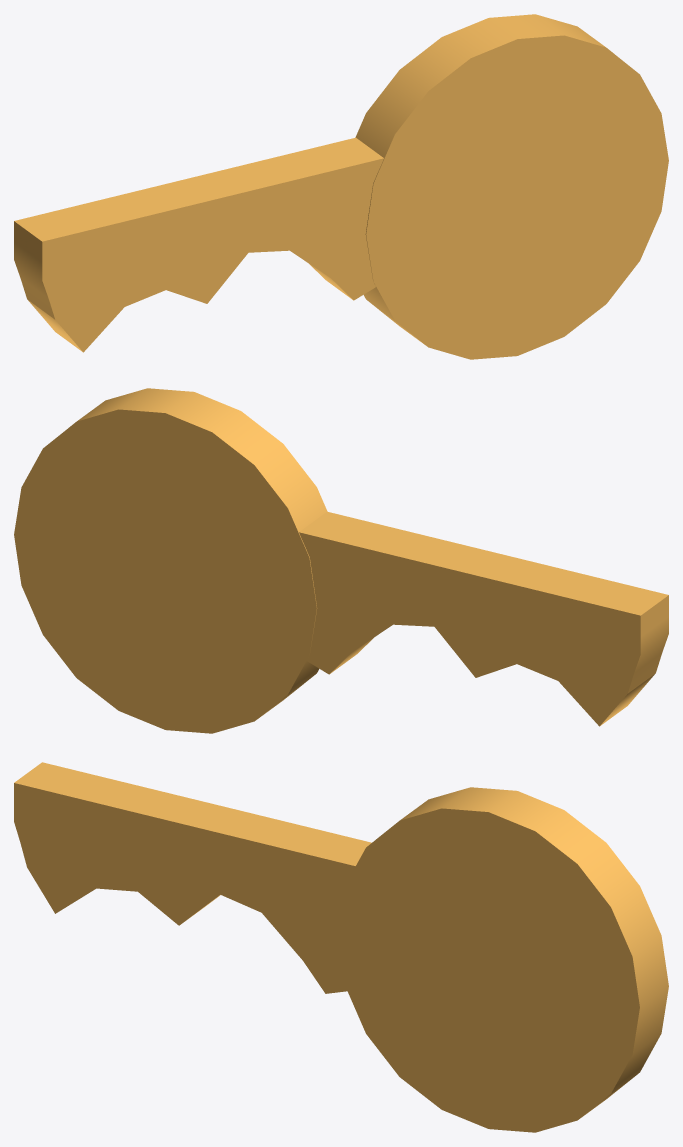
Rendered from key.fbx.
The picture shows the model from 3 angles, top to bottom: view 1: azimuth 30°, elevation 25°; view 2: azimuth 150°, elevation 25°; view 3: azimuth 330°, elevation 25°; orthographic projection.
Parts seen in each view (by area): view 1: pCylinder2; view 2: pCylinder2; view 3: pCylinder2.
Boxes of the visible parts, x1=… form: pCylinder2: x1=14, y1=14, x2=668, y2=359; pCylinder2: x1=14, y1=388, x2=668, y2=733; pCylinder2: x1=14, y1=762, x2=668, y2=1132.
Bounding box in the file's own units: 16.91 × 8.18 × 1.36.
1 material, 1 textured.
